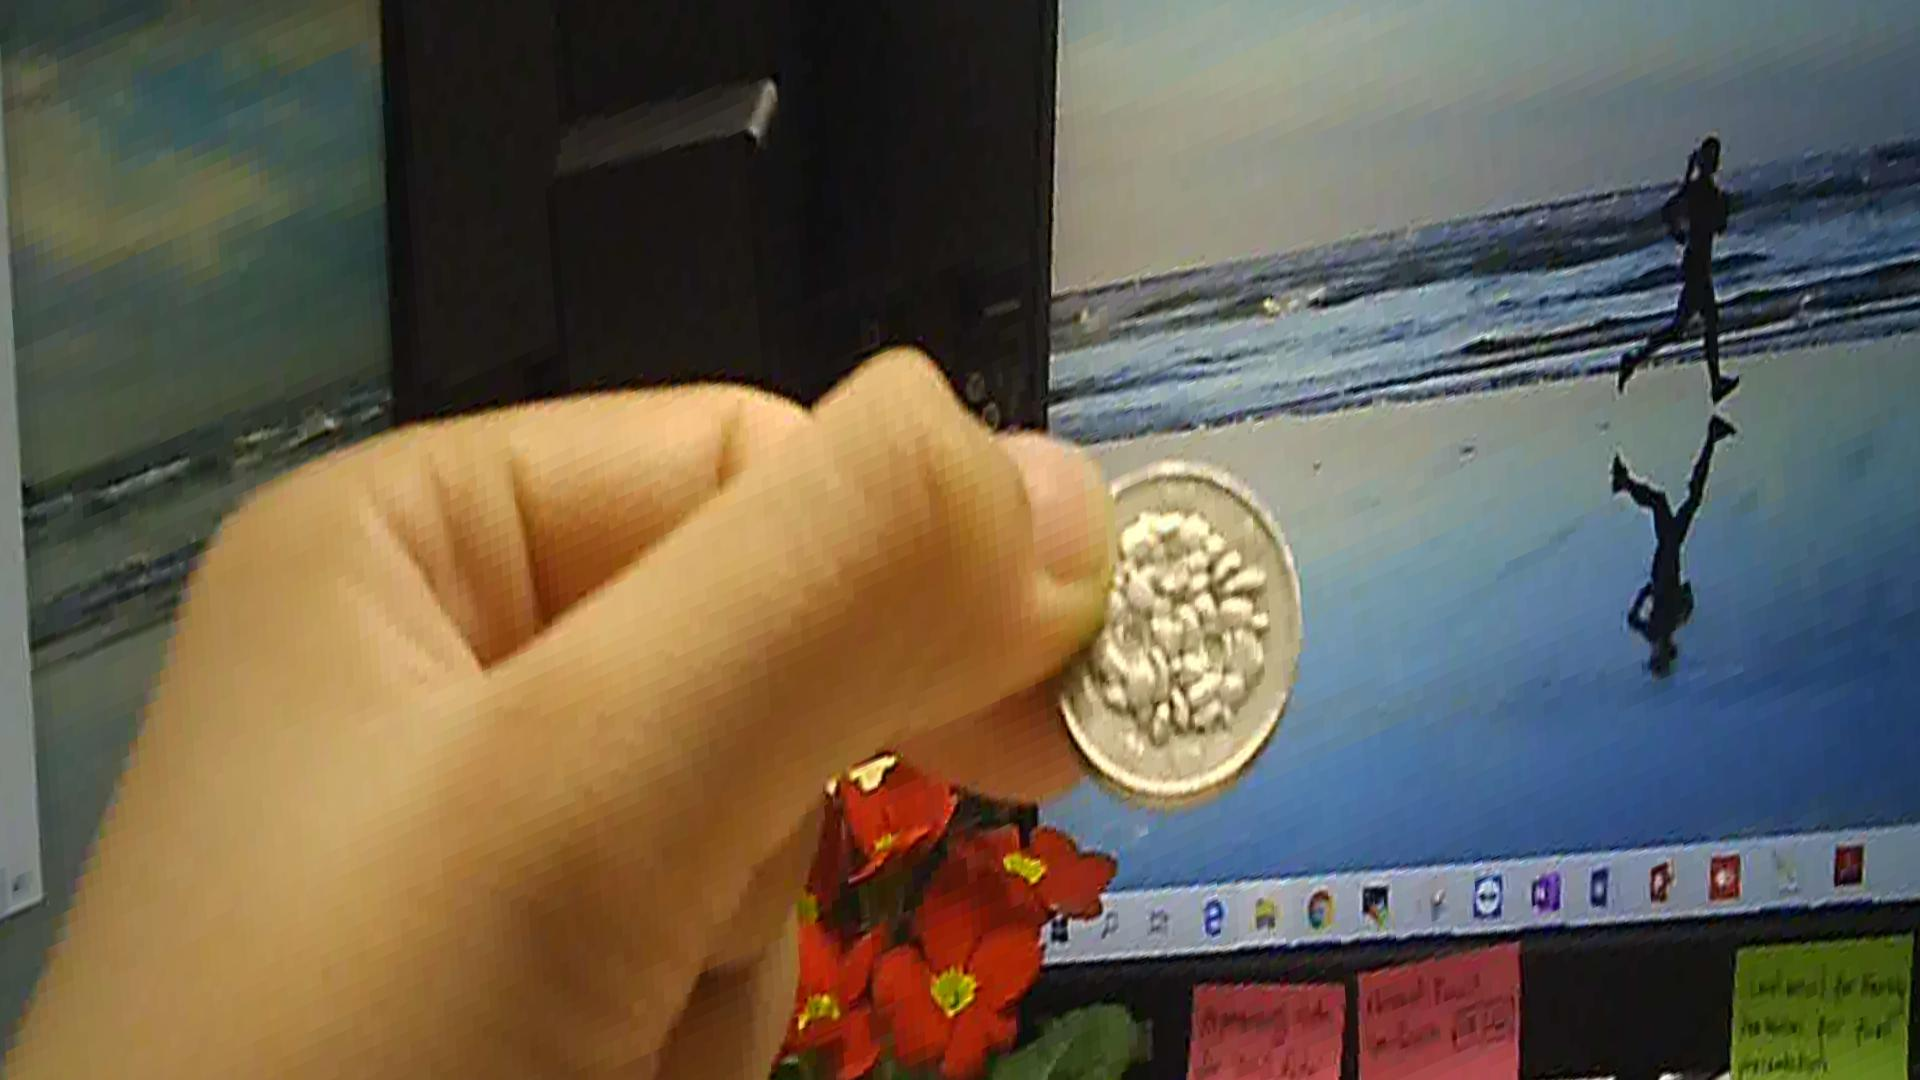100 Yen: (1035, 448, 1302, 833)
